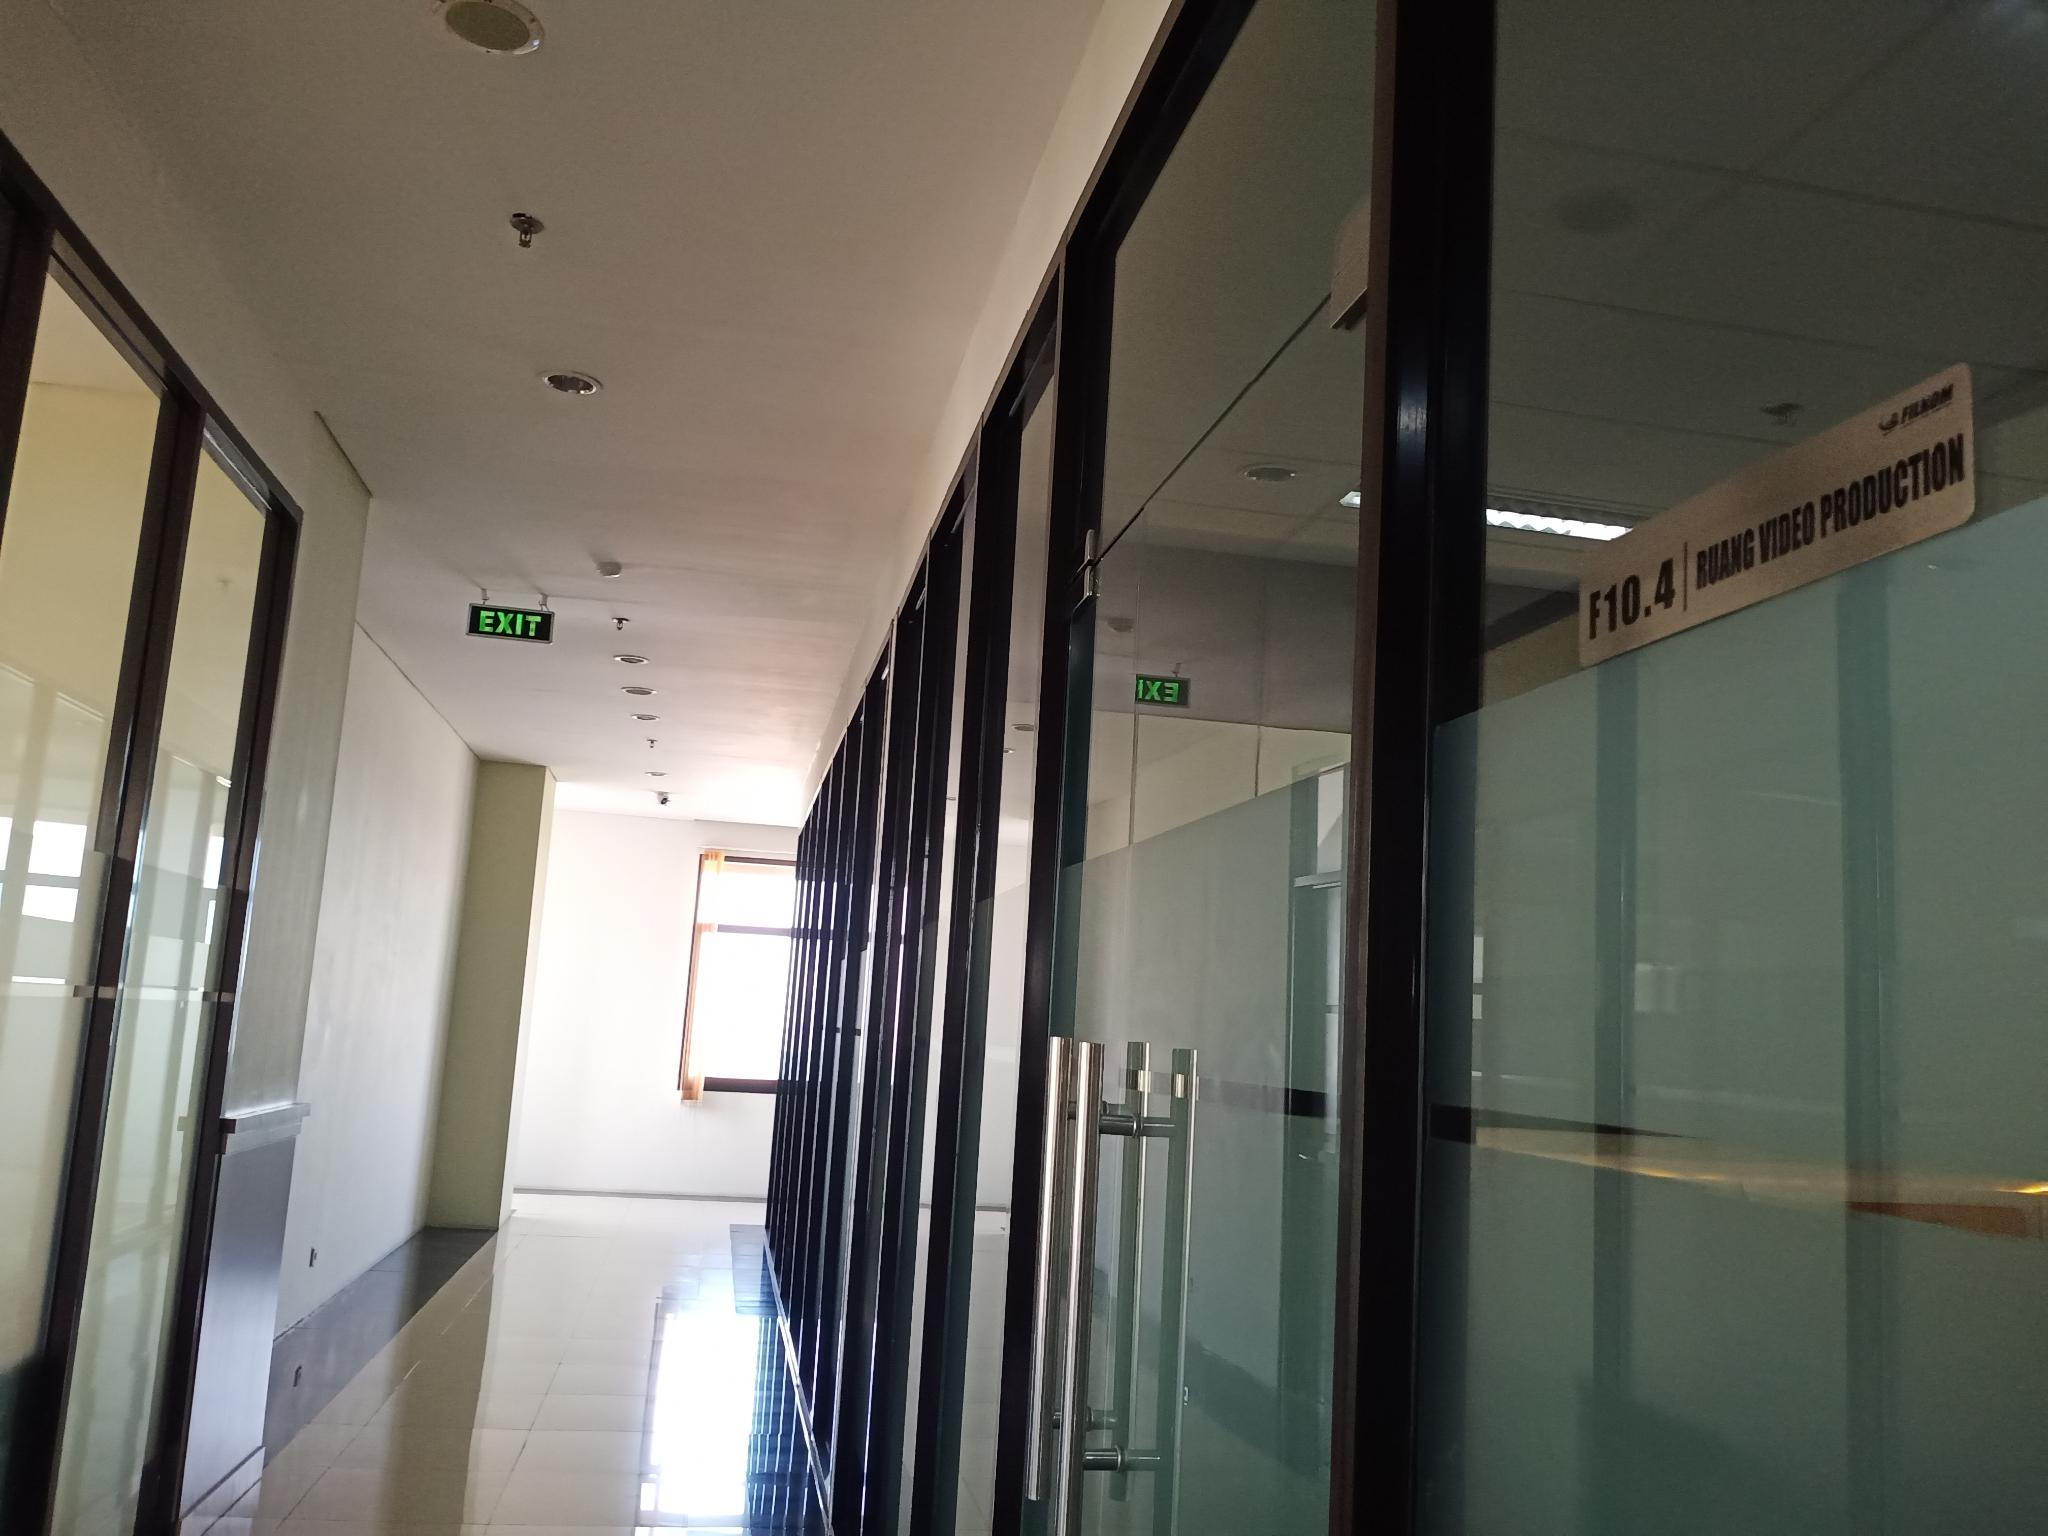plate: (1576, 358, 1977, 670)
